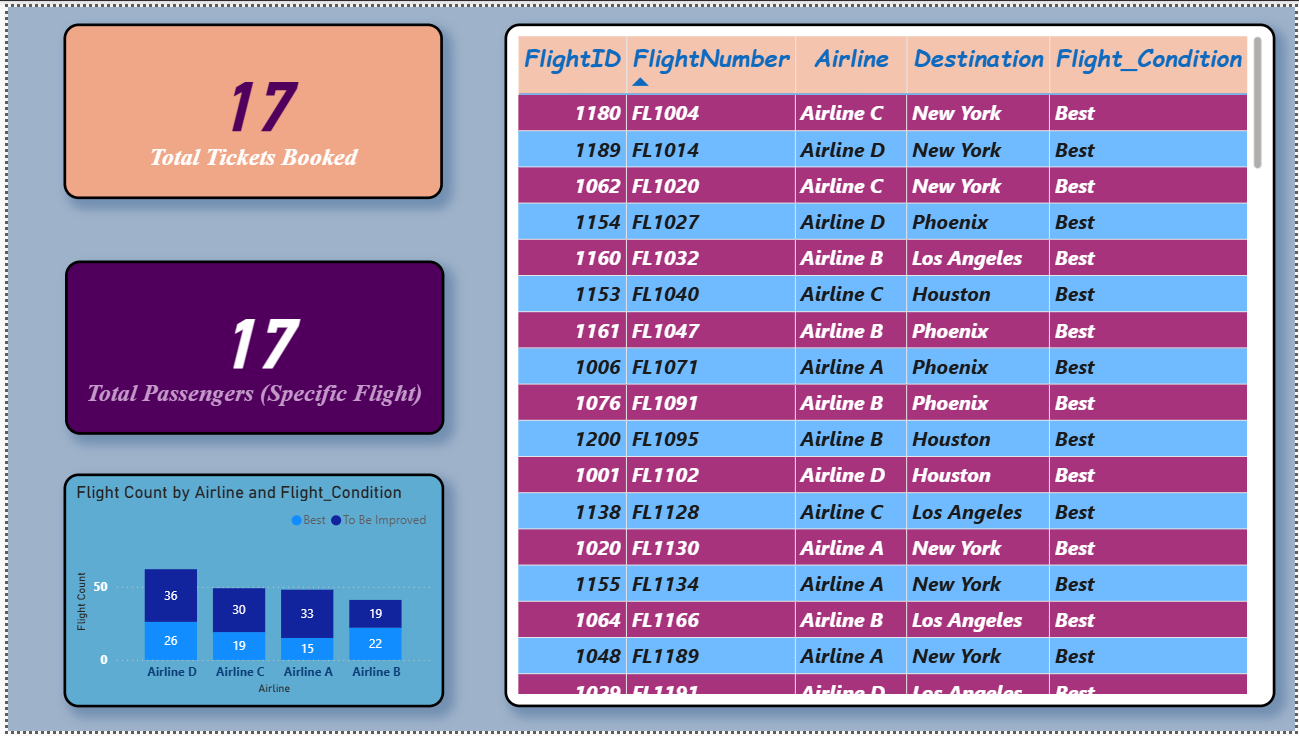

The dashboard page shown, as its layout file describes it:
{"tool":"powerbi","page":{"name":"Calculations Using DAX","canvas":[1280,720],"ordinal":0},"visuals":[{"type":"card","fields":{"Values":["Measure.Total Passengers (Specific Flight)"]},"box":[56.7,252.1,377.4,173],"z":0},{"type":"card","fields":{"Values":["Measure.Total Tickets Booked"]},"box":[55.2,16.4,377.4,174.5],"z":1000},{"type":"tableEx","fields":{"Values":["flight_information.FlightID","flight_information.FlightNumber","flight_information.Airline","flight_information.Destination","flight_information.Flight_Condition"]},"box":[493.8,16.4,766.8,680.2],"z":2000},{"type":"columnChart","fields":{"Category":["flight_information.Airline"],"Y":["Measure.Flight Count"],"Series":["flight_information.Flight_Condition"]},"box":[55.2,463.9,378.9,232.7],"z":3000}]}

Visuals, with their boxes in screenshot pixels (x1, y1, x2, y2), scaled from the page's 1280x720 canvas onto the 1299x736 screenshot:
card - Measure.Total Passengers (Specific Flight): [x1=58, y1=258, x2=441, y2=435]
card - Measure.Total Tickets Booked: [x1=56, y1=17, x2=439, y2=195]
tableEx - flight_information.FlightID x flight_information.FlightNumber: [x1=501, y1=17, x2=1279, y2=712]
columnChart - flight_information.Airline x Measure.Flight Count: [x1=56, y1=474, x2=441, y2=712]
